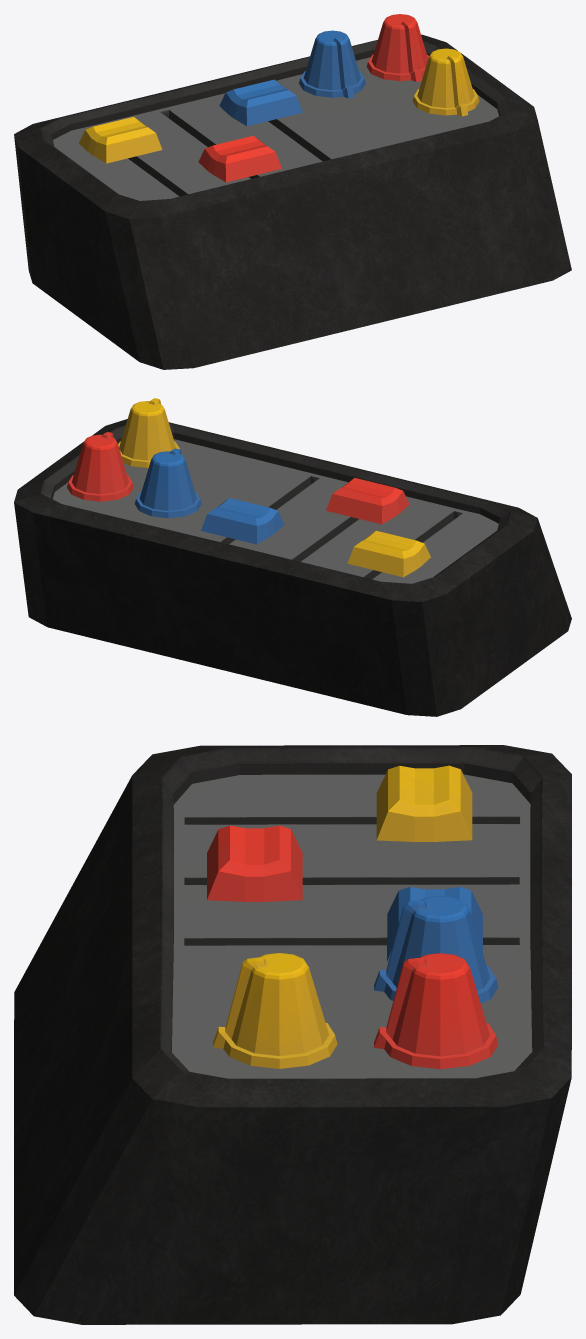
Rendered from AudioMixer.fbx.
3 renders of one model, top to bottom at view 1: azimuth 30°, elevation 25°; view 2: azimuth 150°, elevation 25°; view 3: azimuth 270°, elevation 25°, orthographic. The views are drawn at different scales.
Parts seen in each view (by area): view 1: Base, Knob_01, Knob_03, Knob_02, Slider_01, Slider_02, Slider_03; view 2: Base, Knob_02, Knob_01, Knob_03, Slider_01, Slider_03, Slider_02; view 3: Base, Knob_02, Knob_03, Slider_01, Slider_02, Knob_01, Slider_03.
Part boxes in pixels (x1,y1,x2,y2): Base: [14, 34, 571, 369]; Knob_01: [299, 30, 365, 98]; Knob_03: [412, 48, 479, 116]; Knob_02: [366, 14, 428, 81]; Slider_01: [79, 117, 162, 163]; Slider_02: [198, 135, 281, 182]; Slider_03: [219, 79, 302, 126]; Base: [14, 419, 571, 716]; Knob_02: [67, 432, 133, 501]; Knob_01: [135, 448, 201, 518]; Knob_03: [118, 398, 179, 467]; Slider_01: [347, 530, 430, 577]; Slider_03: [201, 498, 284, 544]; Slider_02: [326, 478, 409, 524]; Base: [14, 745, 571, 1324]; Knob_02: [374, 953, 498, 1069]; Knob_03: [213, 953, 337, 1068]; Slider_01: [376, 765, 472, 841]; Slider_02: [207, 825, 302, 901]; Knob_01: [374, 896, 498, 1003]; Slider_03: [387, 886, 482, 961].
Size of the model in its own units: 679 by 272 by 443.
1 material, 1 textured.
